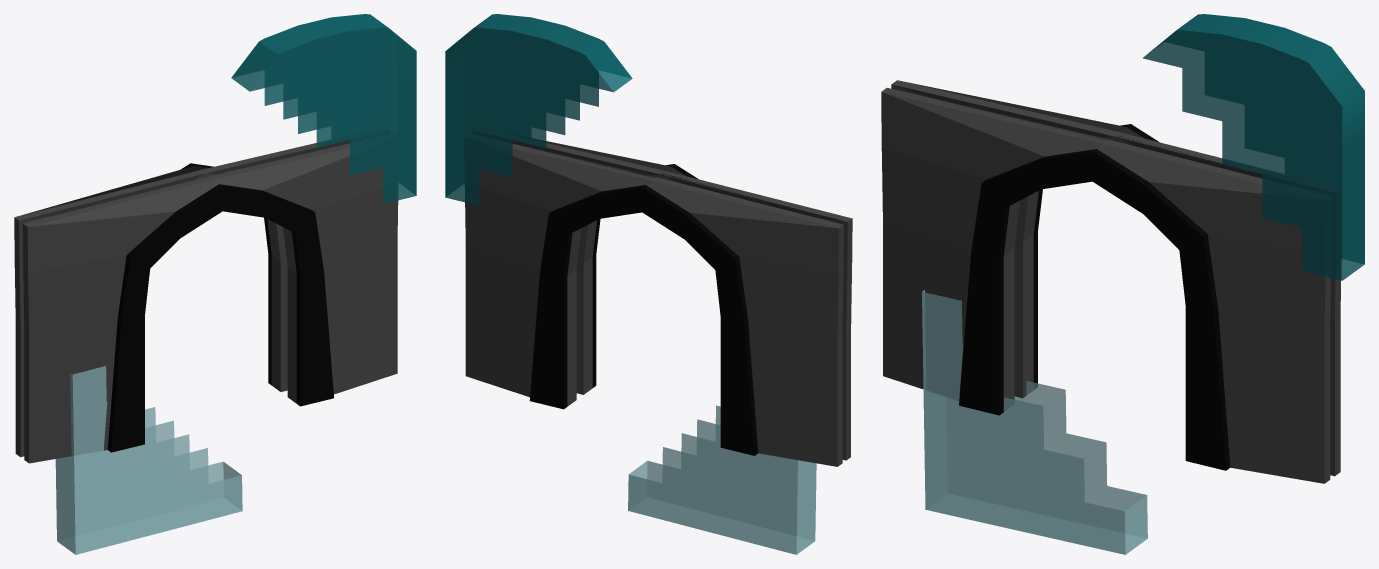
The model's file is serverclosedoor.fbx.
3 renders of one model, left to right at view 1: azimuth 30°, elevation 25°; view 2: azimuth 150°, elevation 25°; view 3: azimuth 330°, elevation 25°, orthographic. The views are drawn at different scales.
Parts seen in each view (by area): view 1: door; view 2: door; view 3: door.
Boxes of the visible parts, x1=… form: door: x1=14, y1=14, x2=416, y2=554; door: x1=445, y1=14, x2=852, y2=554; door: x1=881, y1=14, x2=1364, y2=554.
Bounding box in the file's own units: 24.88 × 27.87 × 3.58.
